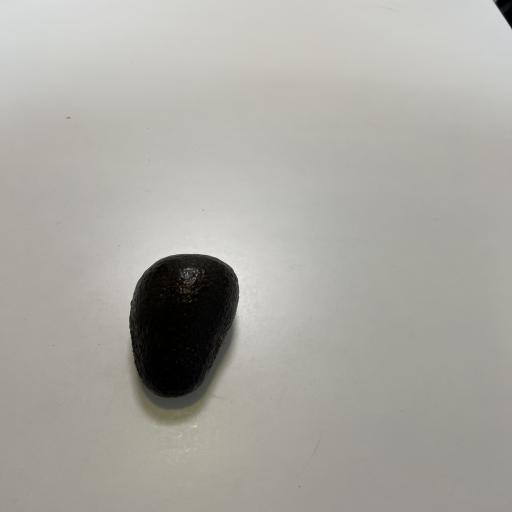avocado: (108, 250, 259, 409)
